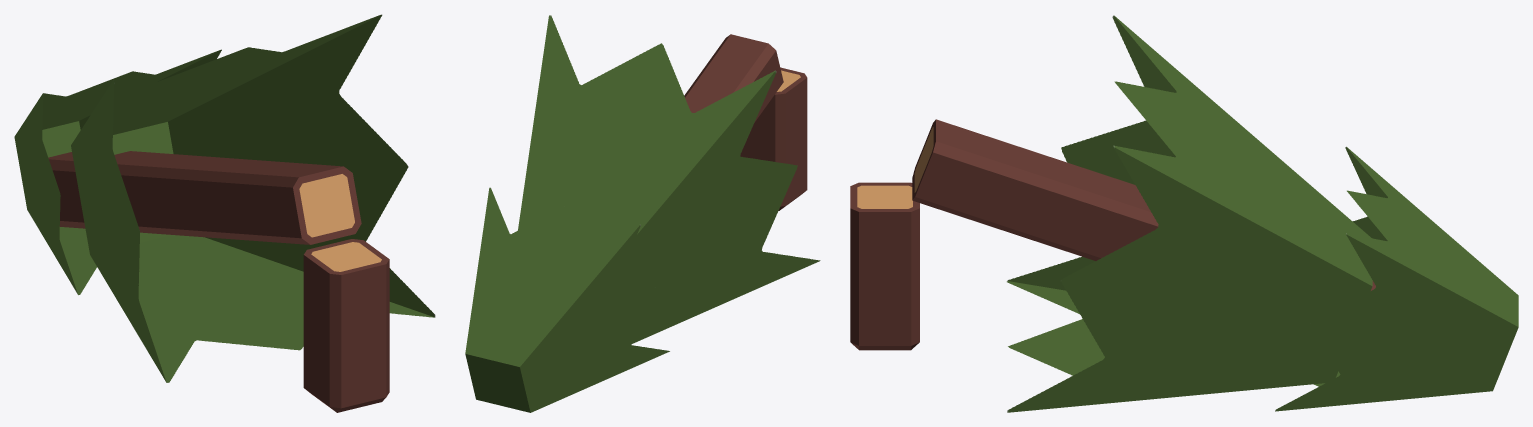
File: Stump 3.fbx
3 renders of one model, left to right at view 1: azimuth 30°, elevation 25°; view 2: azimuth 150°, elevation 25°; view 3: azimuth 270°, elevation 25°, orthographic. The views are drawn at different scales.
Visible parts, largest first — view 1: Stump_3; view 2: Stump_3; view 3: Stump_3.
Part boxes in pixels (<box>): Stump_3: <box>14,14,435,412</box>; Stump_3: <box>465,15,820,412</box>; Stump_3: <box>850,15,1518,412</box>.
Bounding box in the file's own units: 0.9 × 0.9362 × 1.92.
